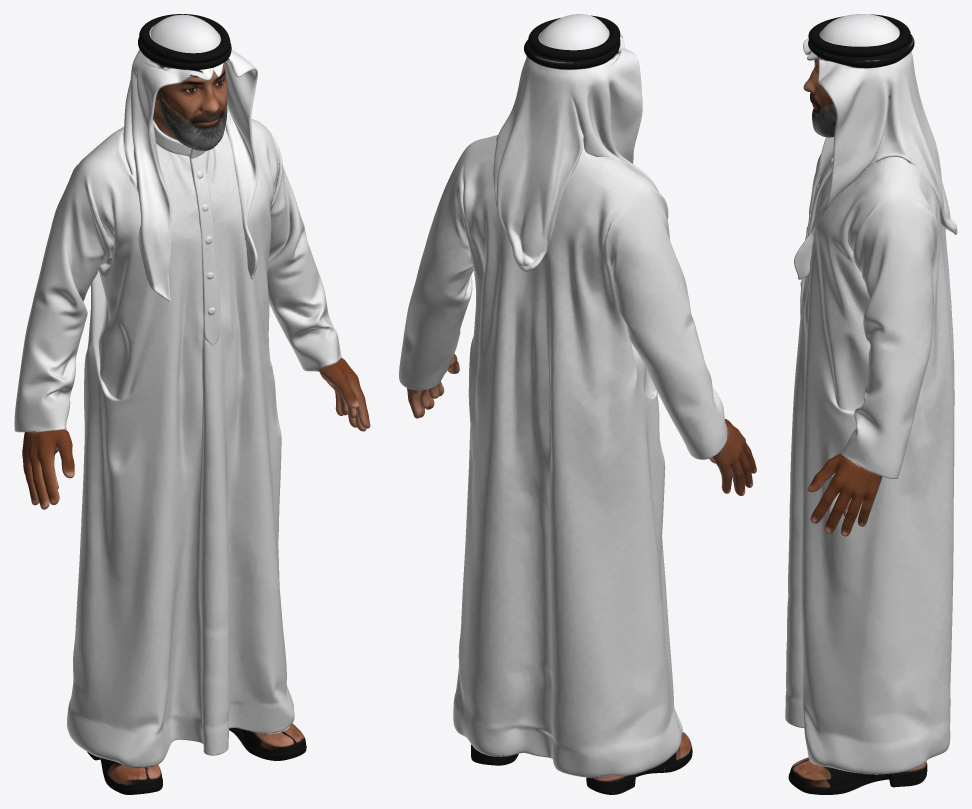
The model's file is employee-15.glb.
3 renders of one model, left to right at view 1: azimuth 30°, elevation 25°; view 2: azimuth 150°, elevation 25°; view 3: azimuth 270°, elevation 25°, orthographic.
Bounding box in the file's own units: 0.8954 × 1.9 × 0.4066.
Materials: 1 (1 with a texture image).
